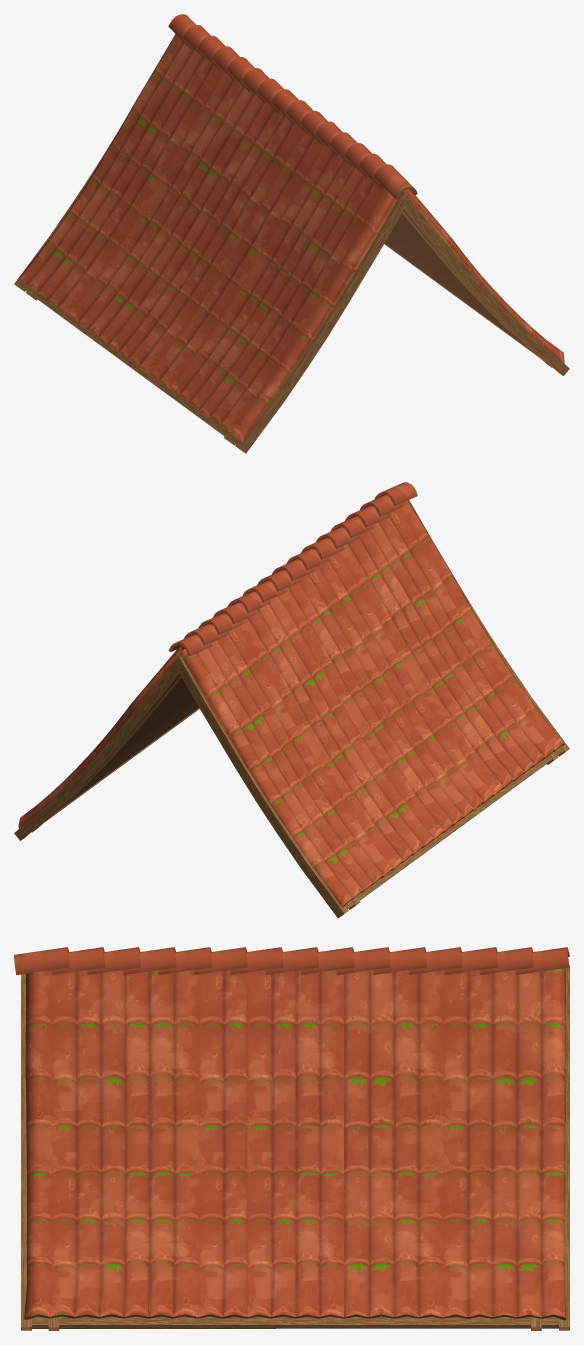
Rendered from Roof_RoundTiles_8x10.gltf.
3 views of the same model, one above another, from view 1: azimuth 30°, elevation 25°; view 2: azimuth 150°, elevation 25°; view 3: azimuth 270°, elevation 25° (orthographic). The views are drawn at different scales.
Visible parts, largest first — view 1: Roof_RoundTiles_8x10; view 2: Roof_RoundTiles_8x10; view 3: Roof_RoundTiles_8x10.
Part boxes in pixels (x1,y1,x2,y2): Roof_RoundTiles_8x10: (14, 14, 569, 453); Roof_RoundTiles_8x10: (14, 482, 569, 918); Roof_RoundTiles_8x10: (14, 947, 569, 1330).
Bounding box in the file's own units: 9.95 × 6.78 × 11.86.
Materials: 2 (2 with a texture image).
